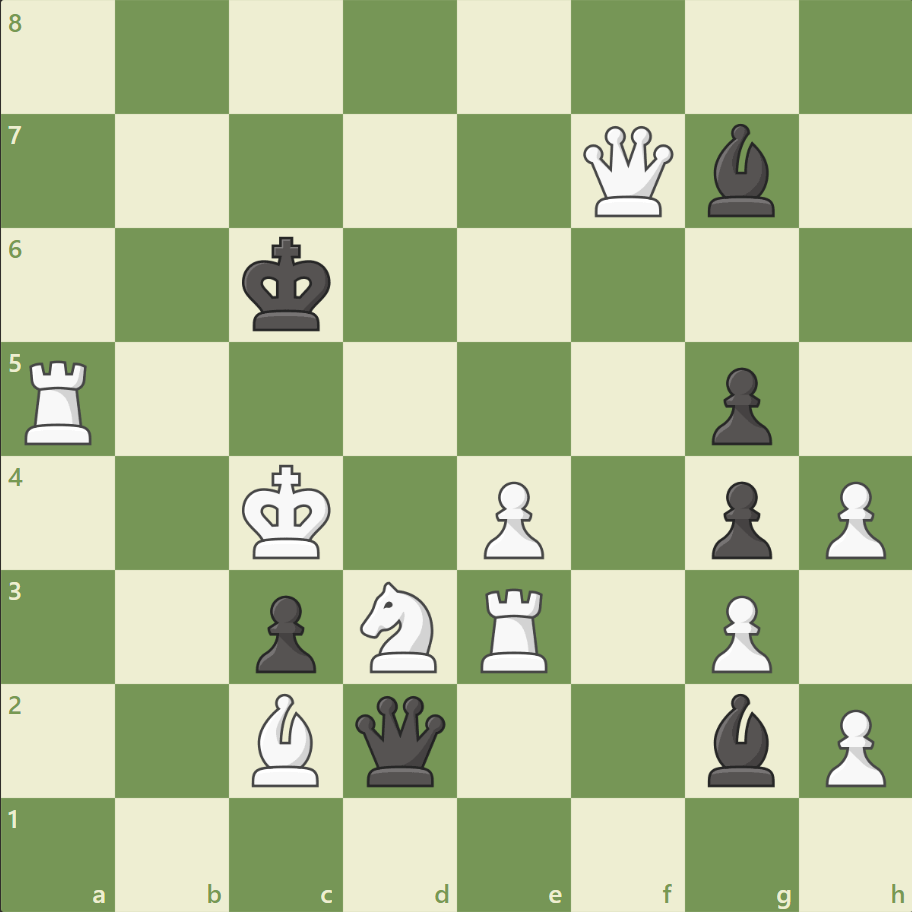B: (244, 687, 328, 790)
K: (238, 458, 338, 566)
N: (351, 575, 449, 677)
P: (474, 473, 549, 564), (701, 586, 776, 677), (815, 473, 889, 564), (815, 700, 889, 791)
Q: (578, 122, 677, 222)
R: (19, 352, 102, 449), (473, 579, 556, 676)
b: (698, 687, 782, 790), (698, 120, 782, 222)
k: (238, 231, 338, 339)
p: (701, 359, 776, 450), (701, 473, 776, 564), (247, 586, 322, 677)
q: (351, 690, 450, 789)
